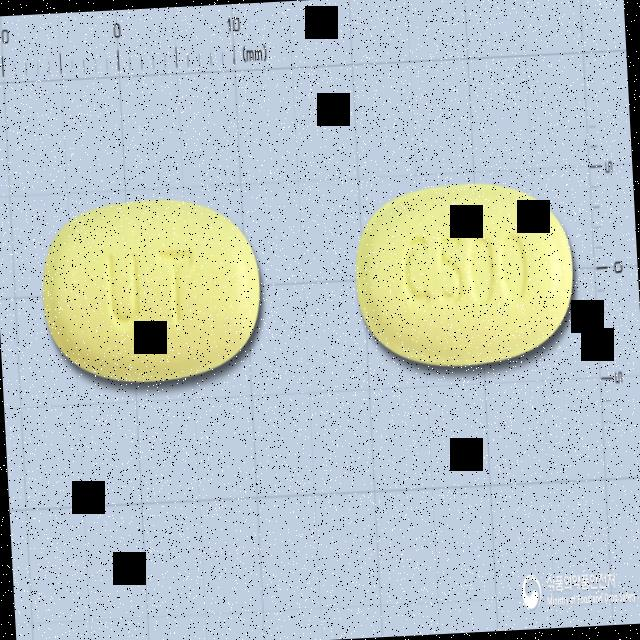Claxin: (38, 190, 268, 394), (350, 173, 582, 375)
